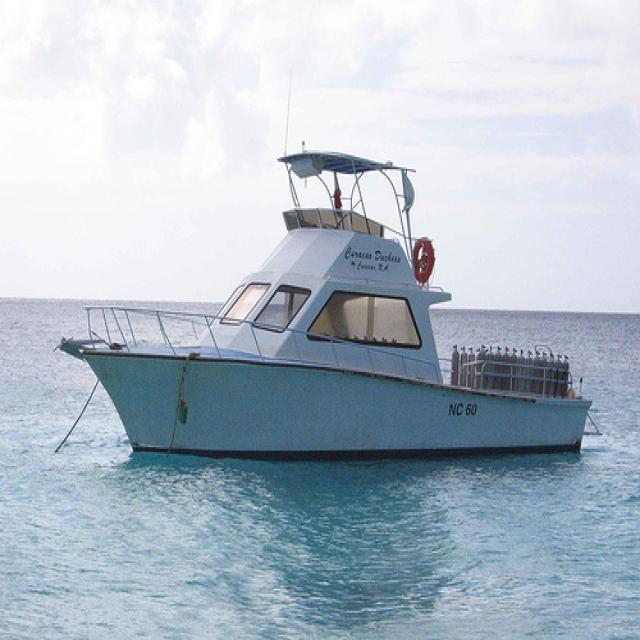boat: (56, 141, 605, 458)
